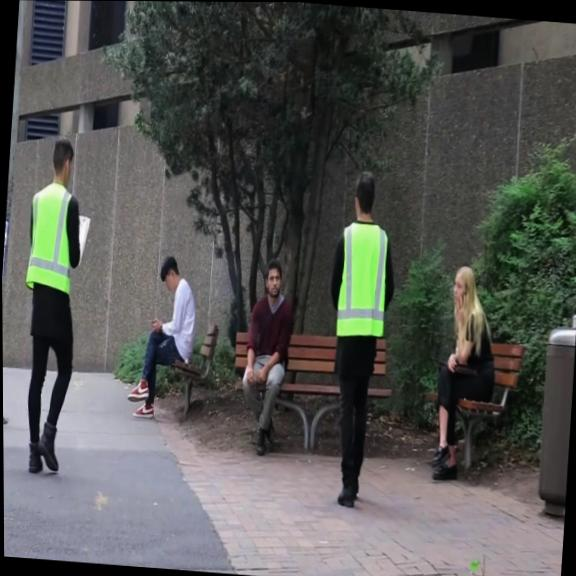safety_vest: (334, 221, 392, 339), (23, 179, 78, 298)
